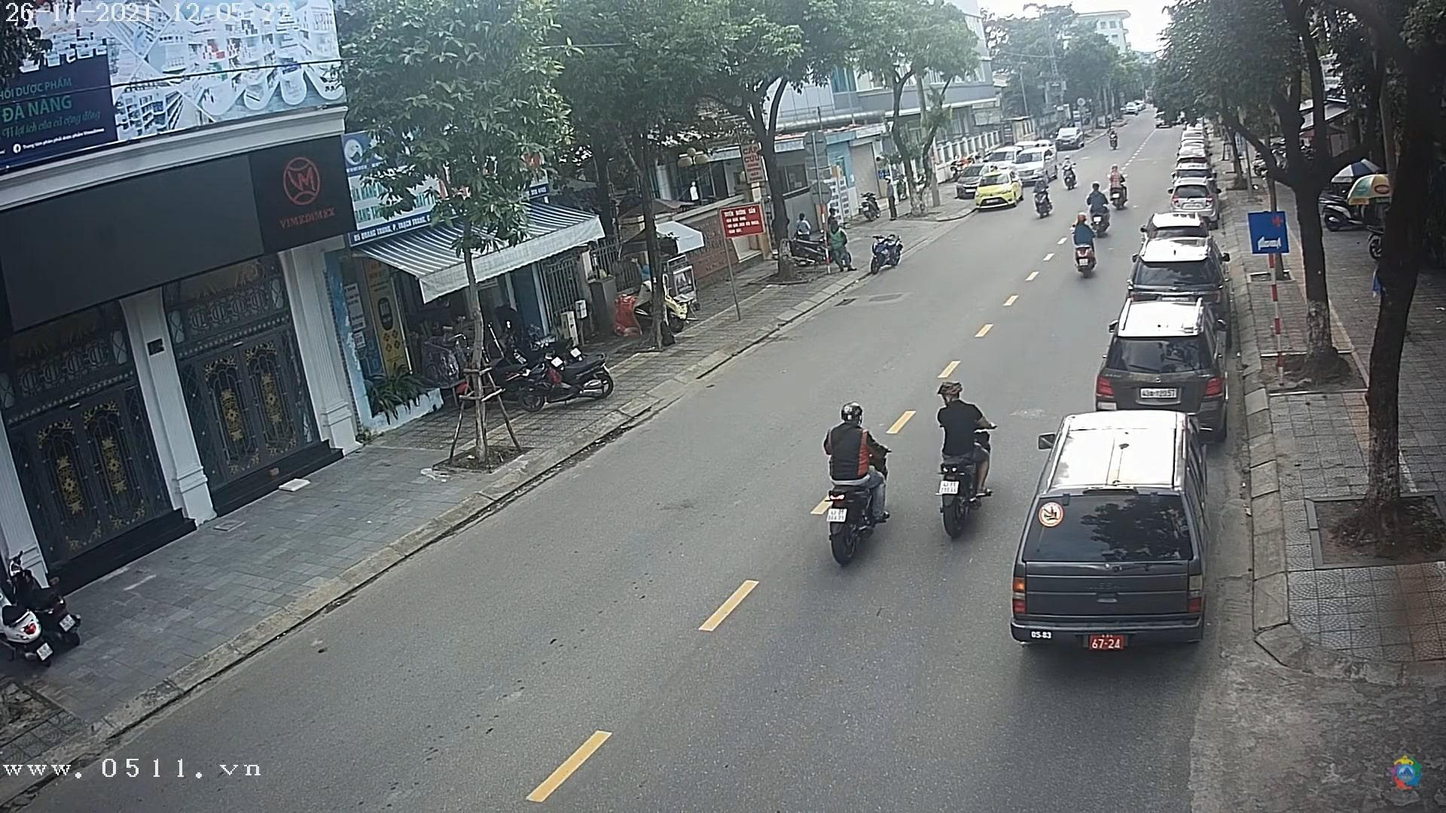car: (1014, 418, 1206, 651), (1097, 294, 1227, 431), (1130, 237, 1227, 297), (1144, 212, 1209, 242), (1170, 183, 1216, 214), (1057, 126, 1087, 150)
motorbike: (810, 471, 891, 566), (938, 444, 998, 538), (1072, 239, 1099, 280), (1034, 187, 1052, 222)
